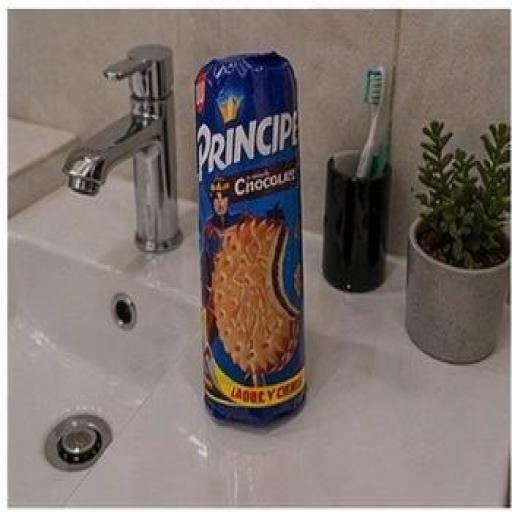prince: (135, 17, 391, 460)
